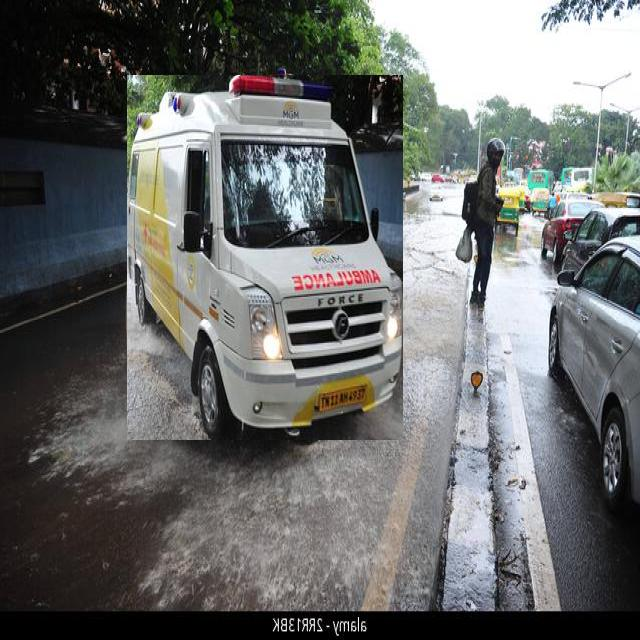car: (549, 237, 640, 506)
emergency: (127, 76, 402, 440)
